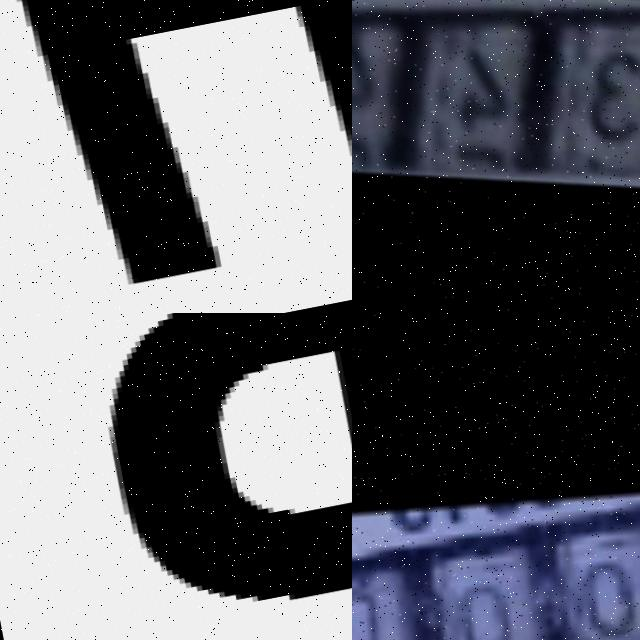0: (438, 565, 540, 640), (570, 545, 640, 640), (352, 567, 407, 640)
3: (574, 32, 640, 153)
4: (435, 32, 542, 150), (352, 14, 411, 144)
H: (0, 0, 352, 308)
P: (109, 313, 352, 604)
